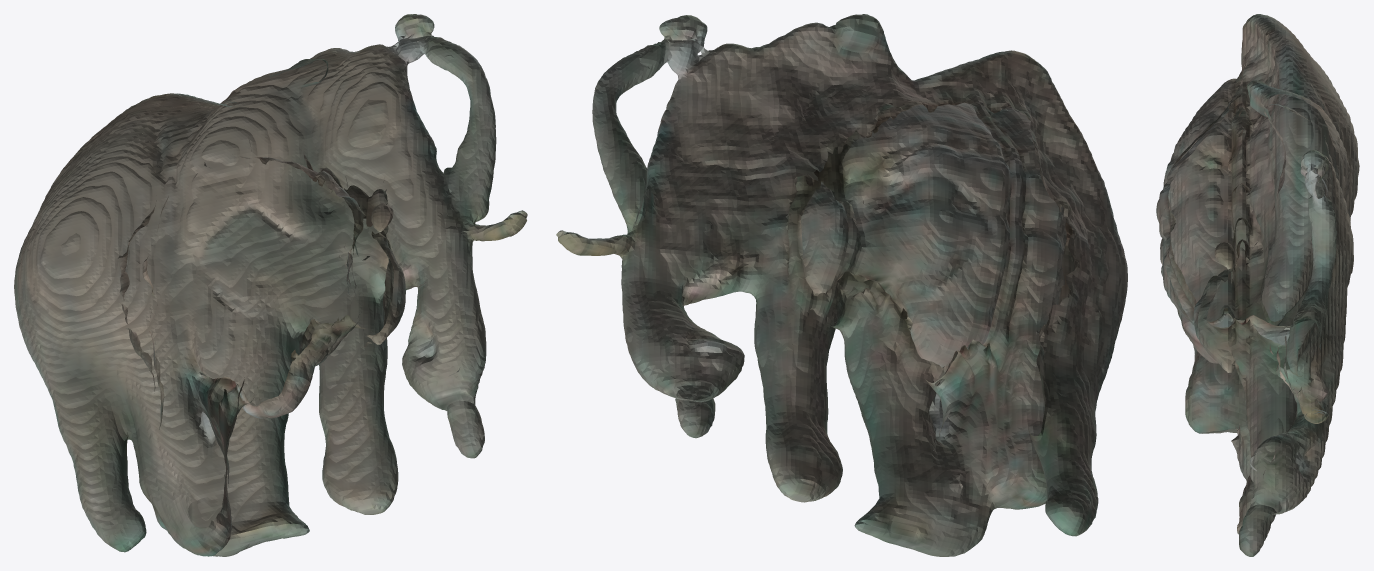
The picture shows the model from 3 angles, left to right: view 1: azimuth 30°, elevation 25°; view 2: azimuth 150°, elevation 25°; view 3: azimuth 270°, elevation 25°; orthographic projection. The views are drawn at different scales.
Parts seen in each view (by area): view 1: geometry_0; view 2: geometry_0; view 3: geometry_0.
Part boxes in pixels (x1,y1,x2,y2): geometry_0: [14, 14, 527, 556]; geometry_0: [556, 14, 1127, 556]; geometry_0: [1156, 14, 1359, 556].
Size of the model in its own units: 1.6 by 1.42 by 0.5898.
